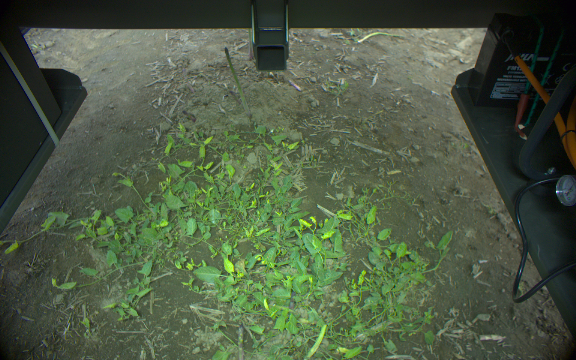aspa: (222, 46, 252, 119), (305, 323, 328, 360), (235, 322, 245, 360)
